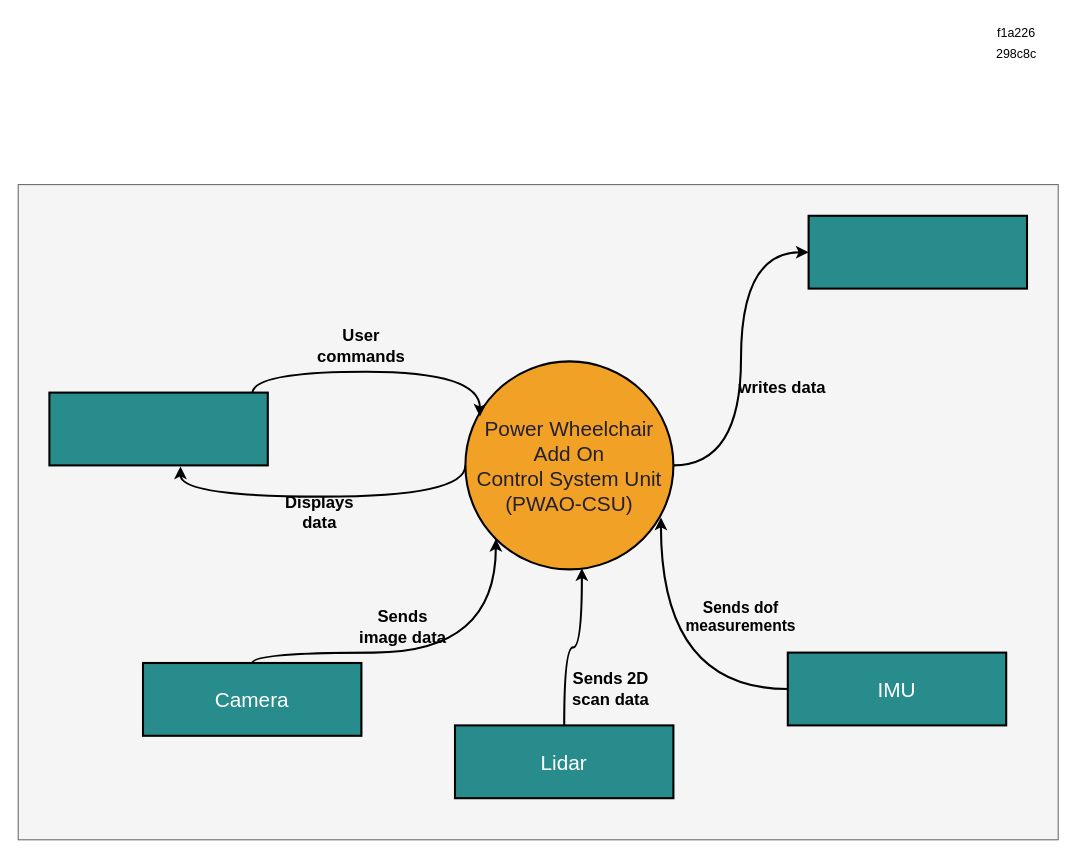
The diagram is 1076 pixels wide and 858 high, and some of its shapes have lost their labels. Here are the shapes that lost their labels. From the top down, the centre of each, then its label:
the point at 917,251: Power Wheelchair Interface Bridge
the point at 158,428: User Assistive Device
